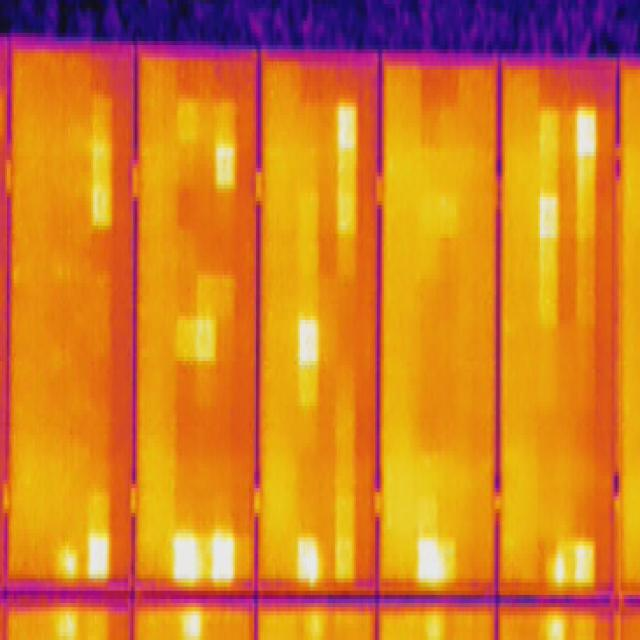hotspot group: (292, 489, 361, 592), (56, 474, 119, 582), (559, 86, 610, 214), (174, 273, 235, 380), (169, 511, 243, 591), (88, 88, 121, 242), (332, 94, 365, 246), (543, 510, 601, 594), (407, 512, 464, 586), (209, 101, 245, 204), (527, 167, 567, 259), (295, 289, 327, 373)
panel with hotspots: (6, 28, 137, 597), (133, 37, 261, 600), (257, 41, 381, 603), (379, 49, 501, 601), (496, 53, 619, 599)
